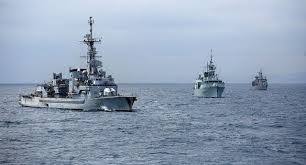tau_muctieu: (14, 37, 137, 113), (189, 56, 228, 99), (249, 66, 271, 91)
